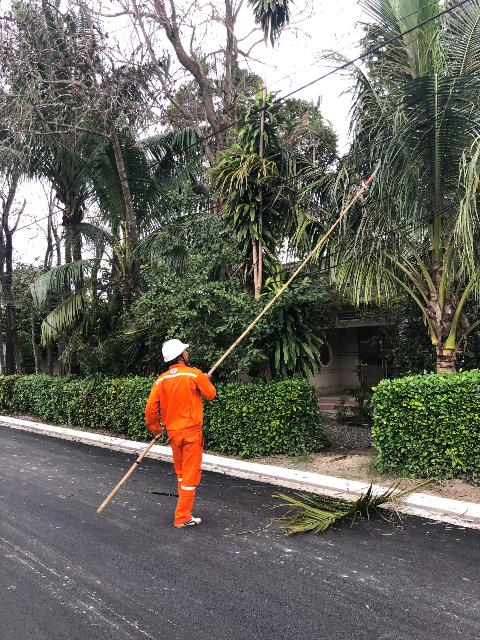helmet: (157, 333, 190, 363)
shoes: (169, 515, 212, 531)
